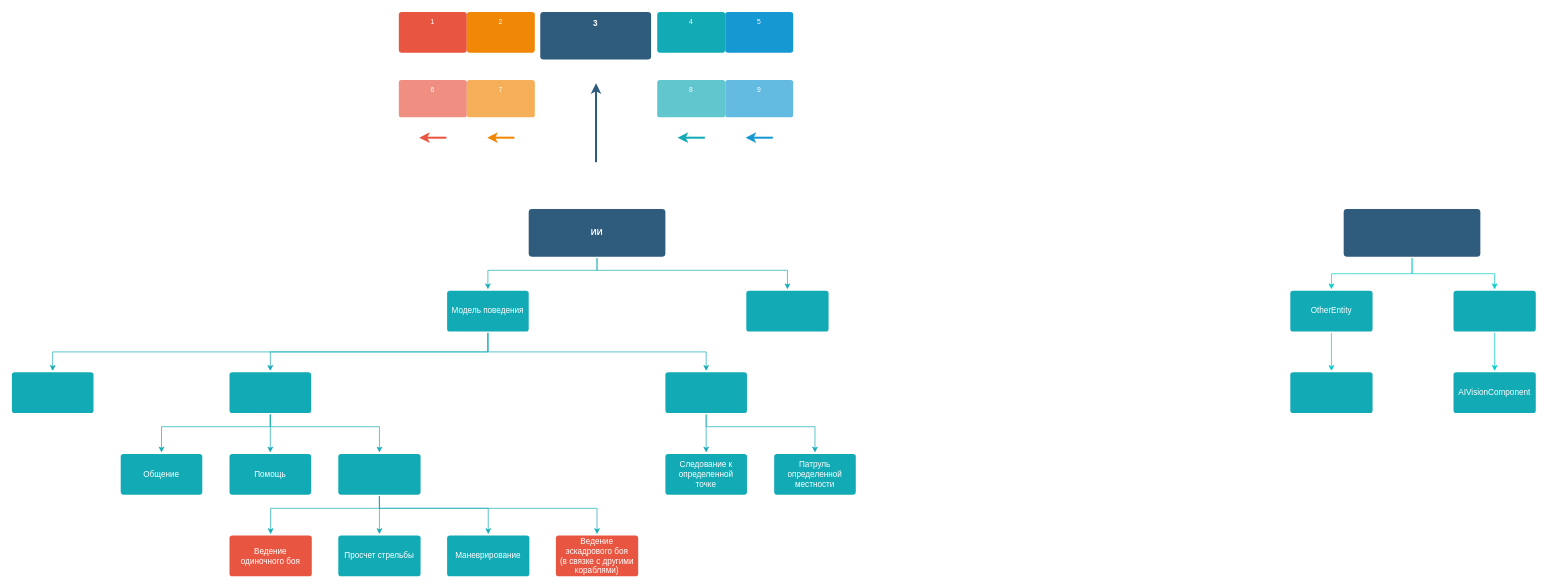
This 1547x588 diagram has some shape labels left out. The centre of each missing label's shape, as x and y in pixels:
AIController: point (1411, 232)
AIEntity: point (1494, 310)
Other Components: point (1331, 392)
Ведение боя: point (379, 474)
Взаимодействие с другими сущностями: point (270, 392)
Зрение (что позволяет распозновать других сущностей): point (52, 392)
Патруль: point (706, 392)
Управление сущностью: point (787, 310)
